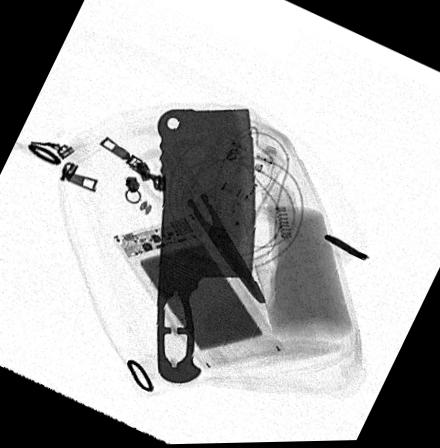Knife: (155, 109, 255, 385)
Powerbank: (109, 214, 282, 370)
Scissors: (132, 140, 270, 307)
